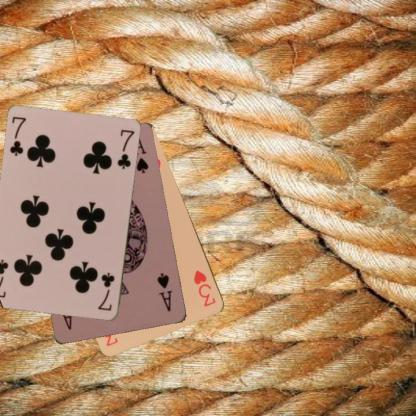3h: (191, 268, 217, 308)
7c: (7, 114, 28, 158), (95, 270, 116, 312)
As: (155, 270, 174, 312)
